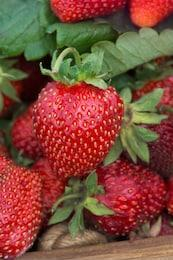Fresa: (29, 64, 132, 189), (78, 152, 171, 242)
